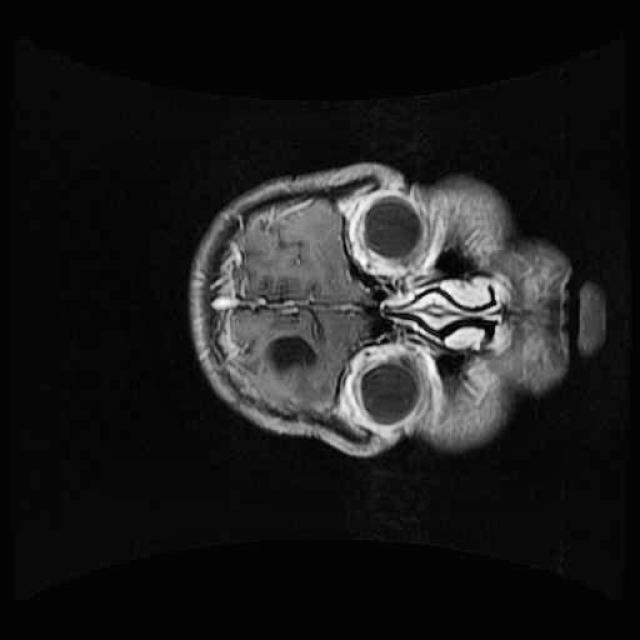Tumor: (249, 328, 333, 399)
